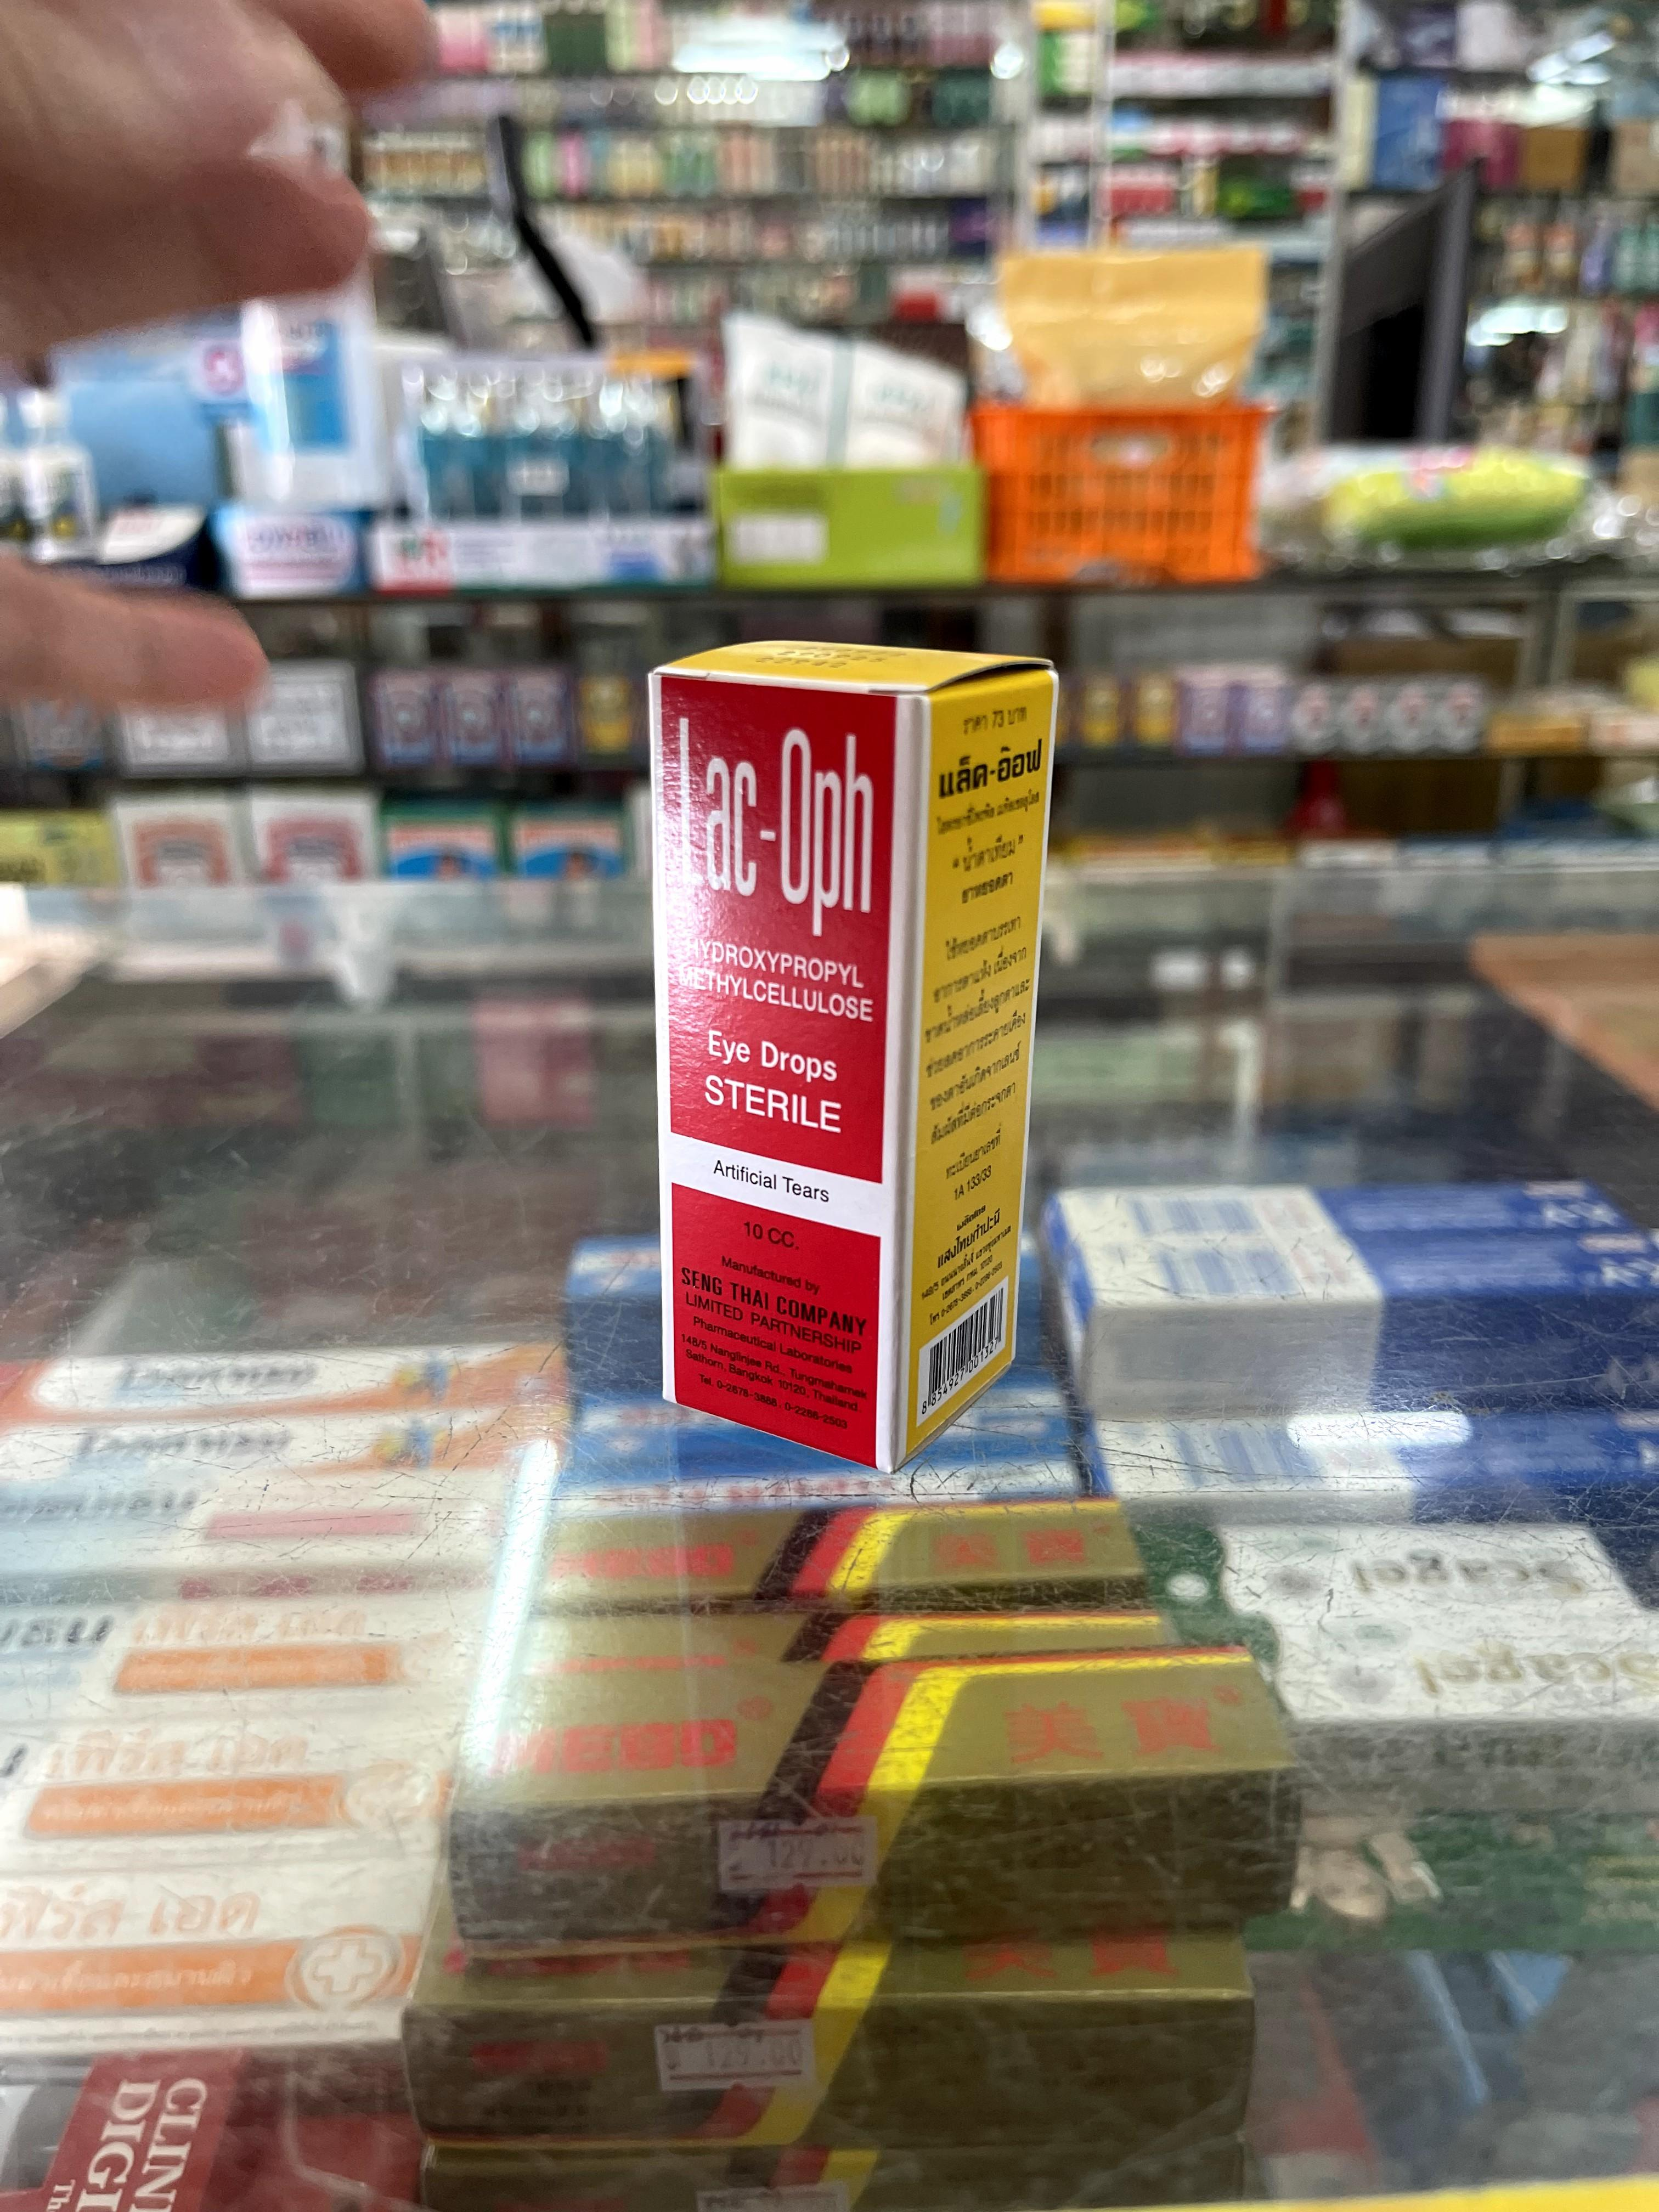Lac-Oph_Red: (653, 639, 1053, 1470)
